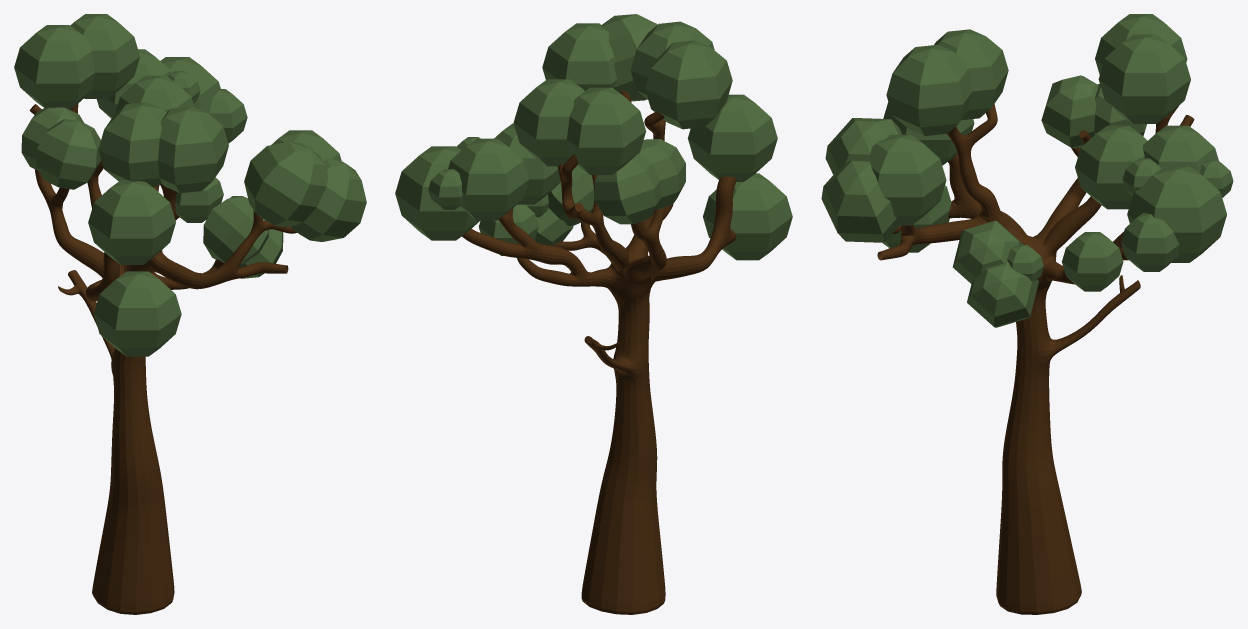
Rendered from arvore 2 folhas.fbx.
3 renders of one model, left to right at view 1: azimuth 30°, elevation 25°; view 2: azimuth 150°, elevation 25°; view 3: azimuth 270°, elevation 25°, orthographic. The views are drawn at different scales.
Parts seen in each view (by area): view 1: Cube; view 2: Cube; view 3: Cube.
Part boxes in pixels (x1=…): Cube: x1=14, y1=14, x2=366, y2=614; Cube: x1=395, y1=14, x2=792, y2=614; Cube: x1=821, y1=14, x2=1233, y2=614.
Bounding box in the file's own units: 662 × 1362 × 891.
